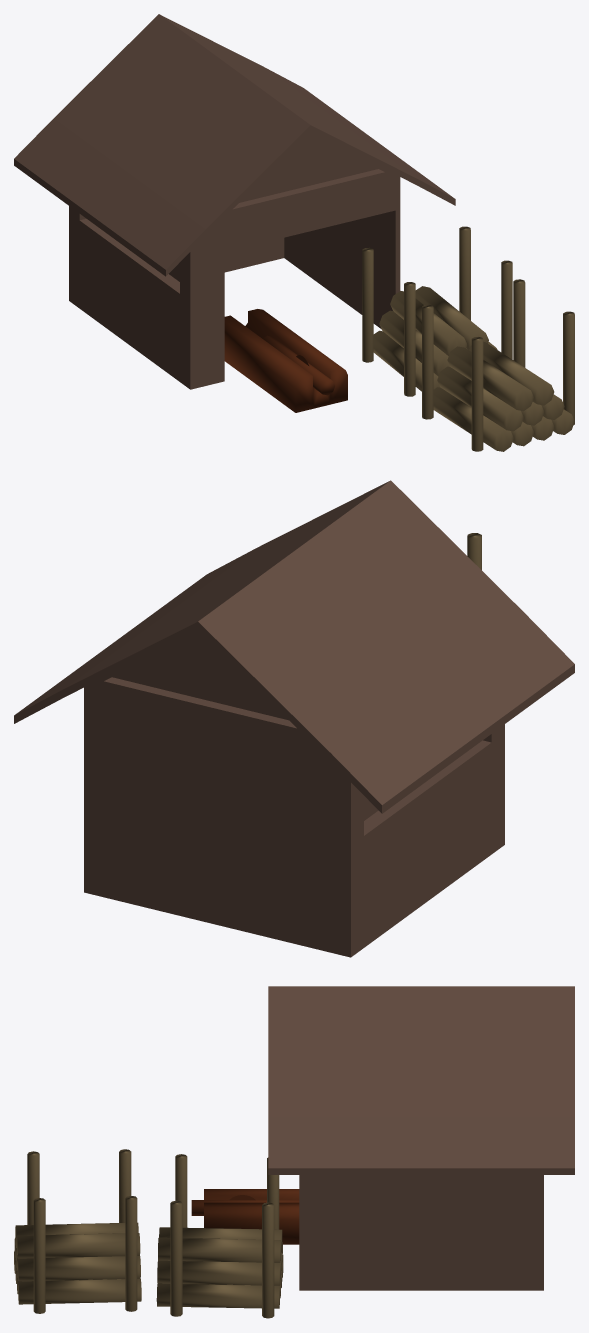
File: Timbermill.fbx
The picture shows the model from 3 angles, top to bottom: view 1: azimuth 30°, elevation 25°; view 2: azimuth 150°, elevation 25°; view 3: azimuth 270°, elevation 25°; orthographic projection. The views are drawn at different scales.
Parts seen in each view (by area): view 1: Timber Mill House, Logs.002, Logs.001, Saw with Wood.001; view 2: Timber Mill House; view 3: Timber Mill House, Logs.002, Logs.001, Saw with Wood.001.
Boxes of the visible parts, left/top/right/bottom form: Timber Mill House: left=14, top=14, right=455, bottom=389; Logs.002: left=422, top=279, right=574, bottom=451; Logs.001: left=362, top=226, right=512, bottom=396; Saw with Wood.001: left=224, top=309, right=347, bottom=412; Timber Mill House: left=14, top=480, right=574, bottom=957; Timber Mill House: left=268, top=986, right=574, bottom=1290; Logs.002: left=14, top=1149, right=141, bottom=1313; Logs.001: left=156, top=1154, right=283, bottom=1318; Saw with Wood.001: left=191, top=1189, right=299, bottom=1244.
Size of the model in its own units: 580 by 460 by 917.
